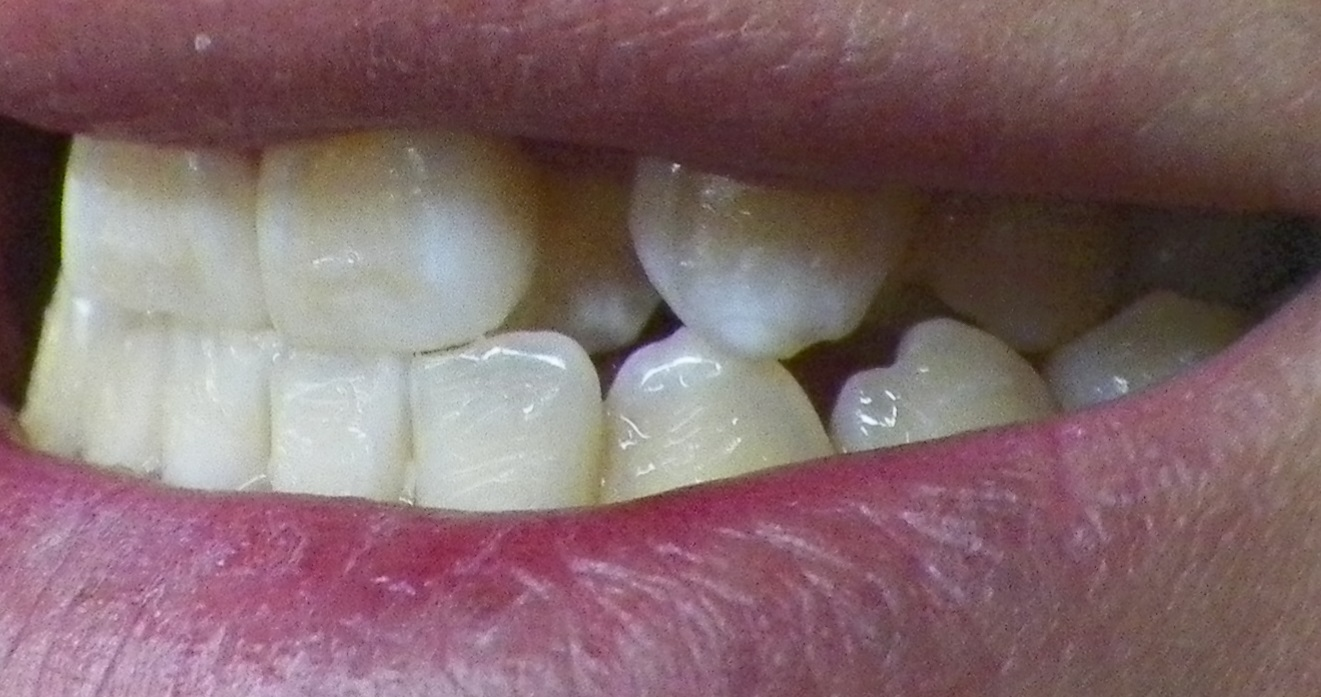boca: (38, 129, 1241, 514)
